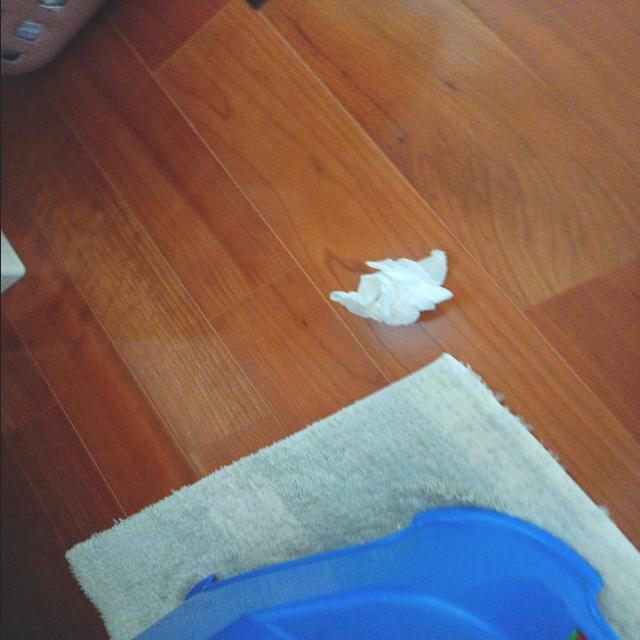Paper: (325, 246, 477, 368)
